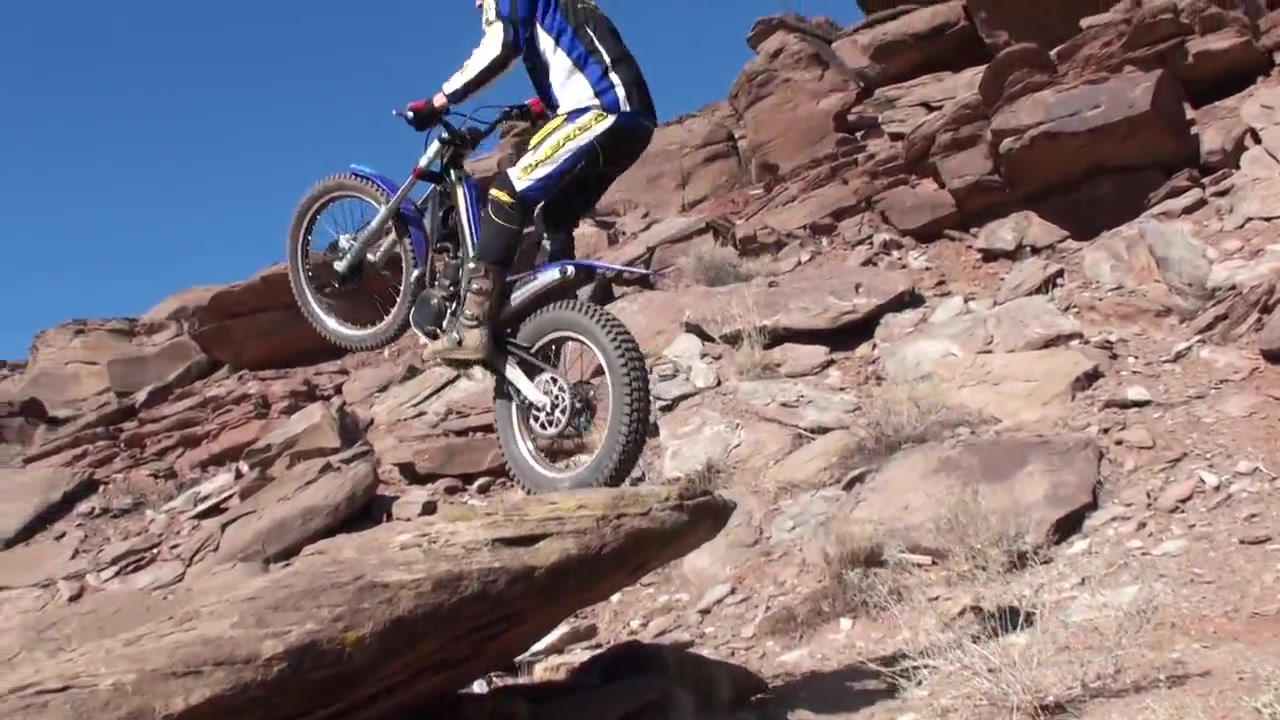motorbike: (284, 103, 665, 494)
